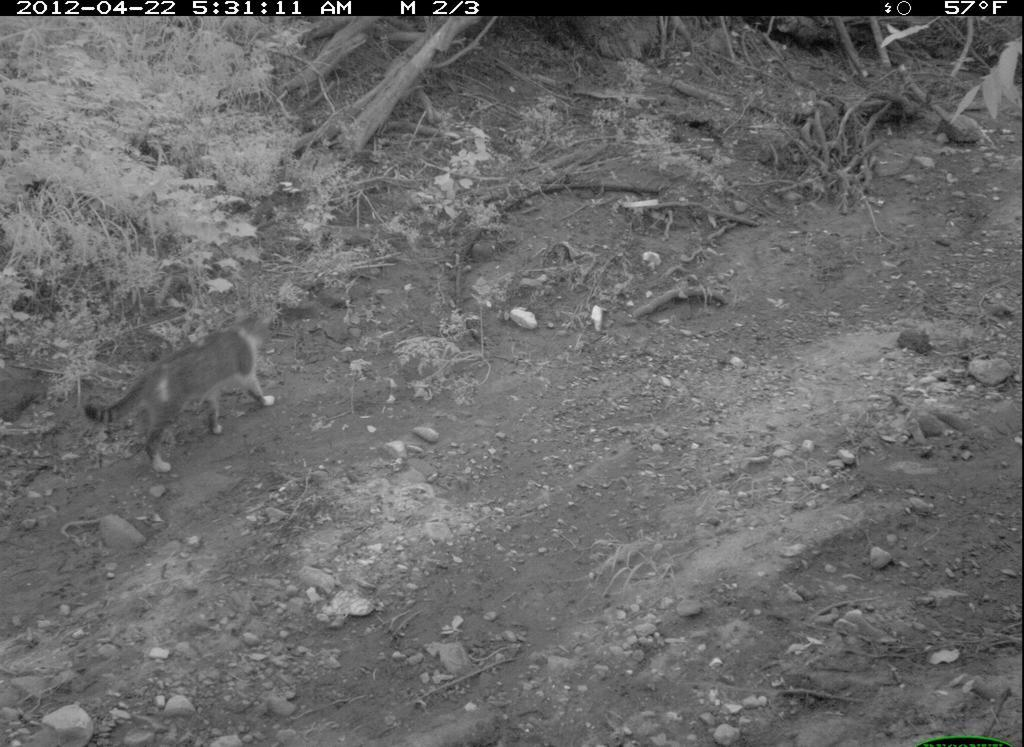cat: (80, 299, 296, 489)
